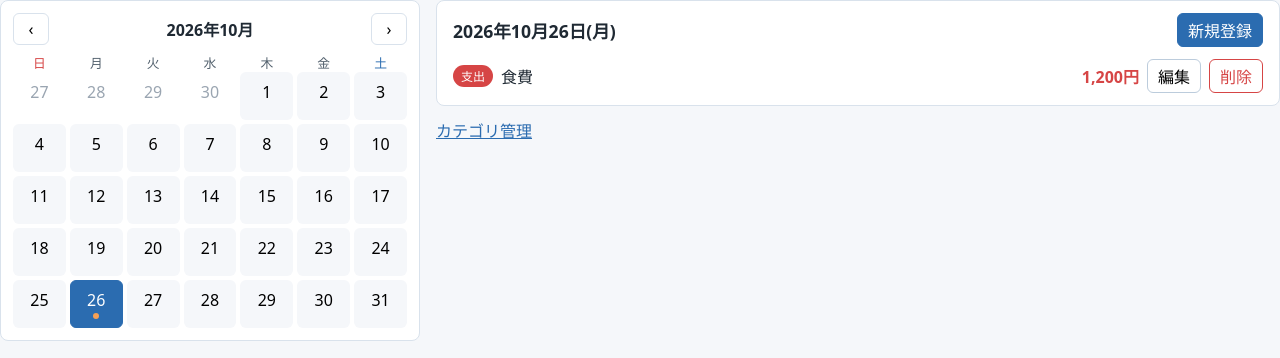
Test case: CalendarView › clears the list and the marker after deleting the last transaction of the day
Expected: the number of elements with test id "marker-expense" is 1, [93,313,99,319]
Click the button "削除" at (1236, 76), box [1209,59,1263,93]
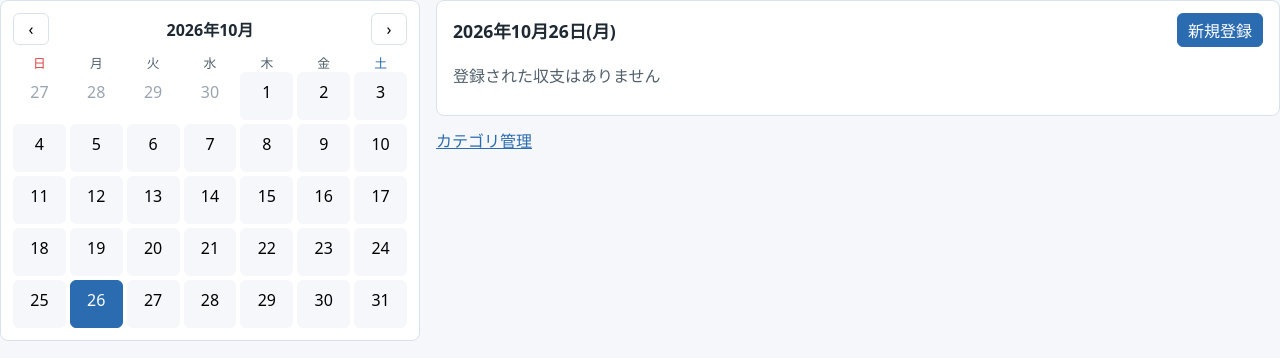
Expected: the text "登録された収支はありません" is shown, [453,65,660,87]
Expected: no elements with test id "marker-expense" are shown
